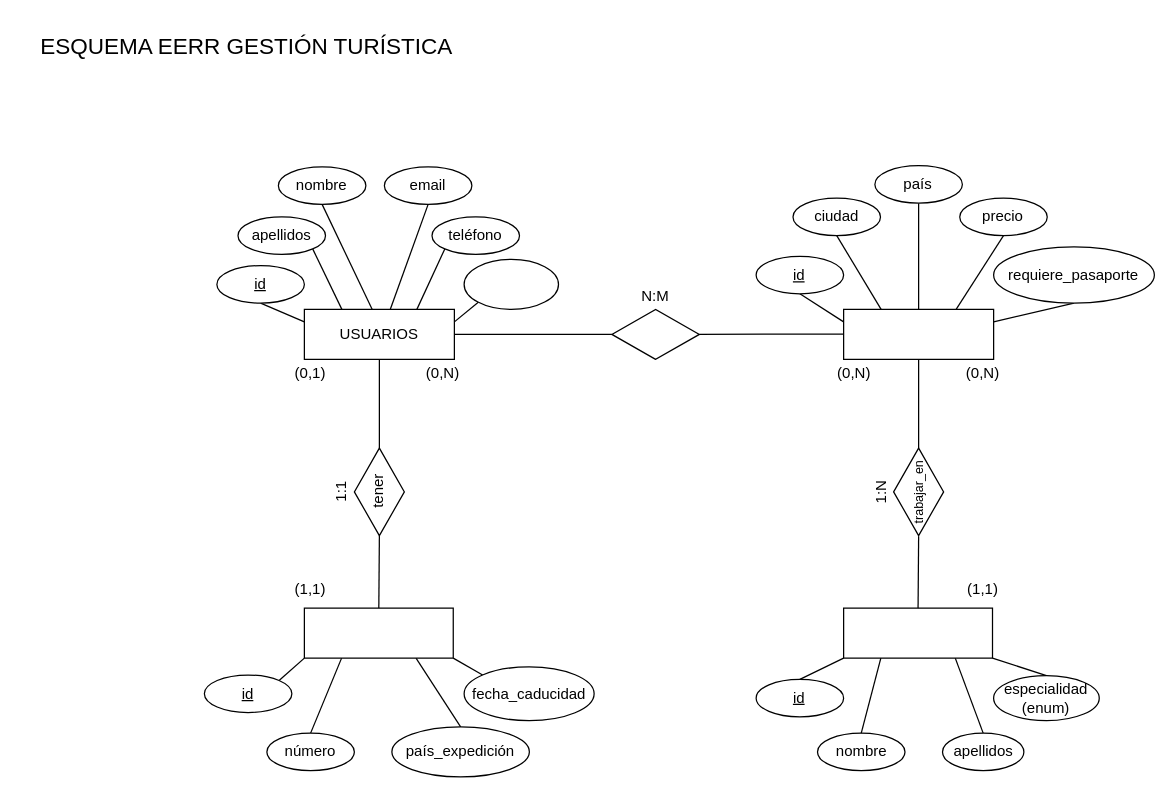
This 1176x799 diagram has some shape labels left out. Here are the shapes that lost their labels. From the top down, the box of each, then its label:
(463, 258, 558, 309): fecha nacimiento
(611, 308, 699, 359): elegir
(842, 308, 994, 359): DESTINOS
(303, 607, 453, 658): PASAPORTE
(842, 607, 992, 658): GUÍAS
